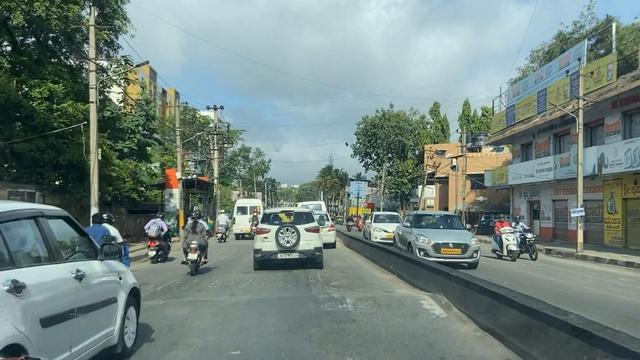LMV: (253, 209, 322, 268), (183, 213, 209, 276), (145, 213, 169, 261)
SpeedBump: (140, 291, 465, 315)
UnsurfacedRoad: (153, 275, 365, 287)
